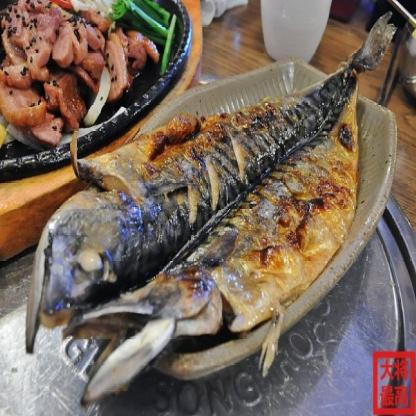Peixe: (21, 8, 398, 406)
